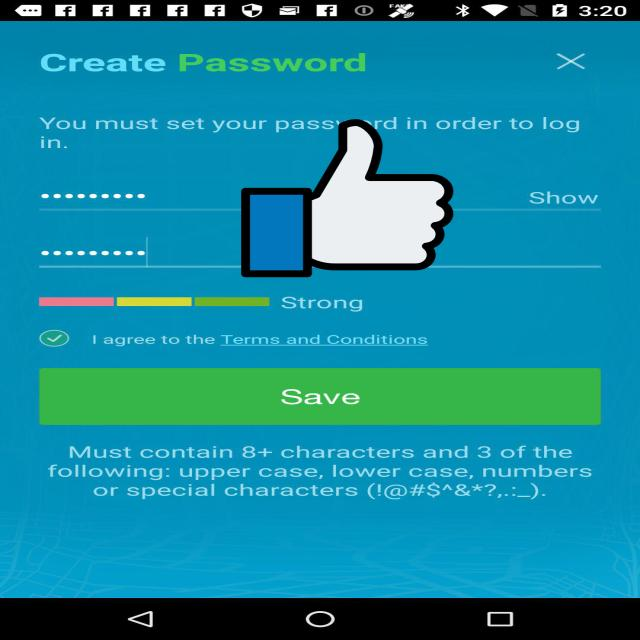privacy zuckering: (242, 116, 454, 280)
